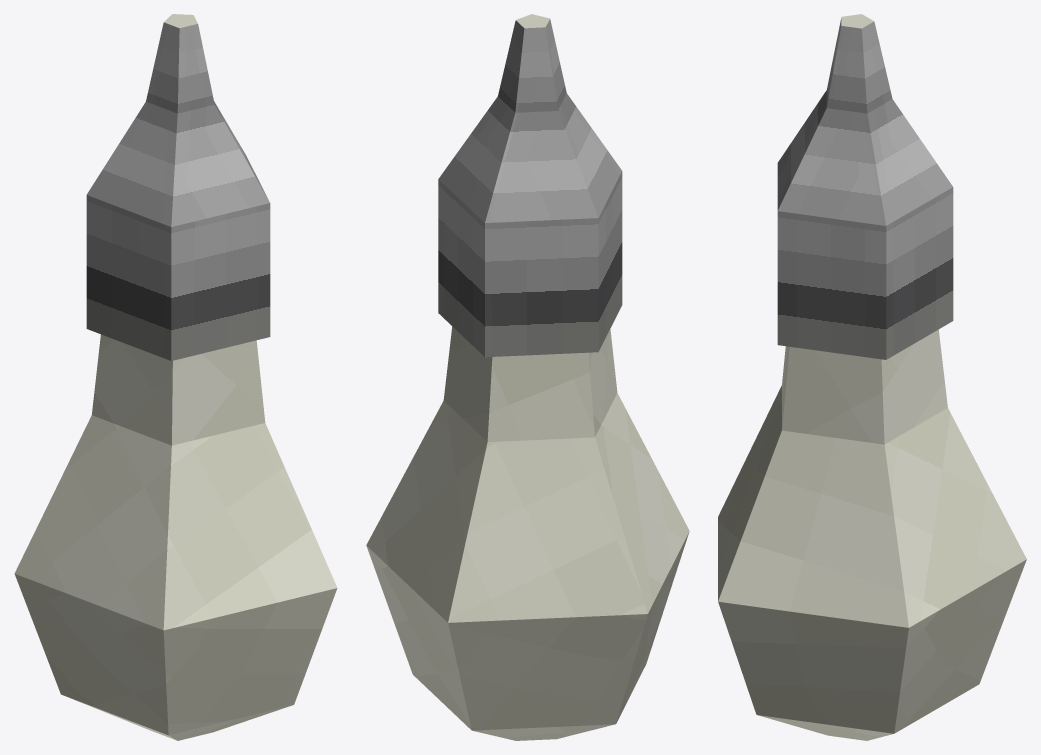
Rendered from LightBulb01.obj.
The picture shows the model from 3 angles, left to right: view 1: azimuth 30°, elevation 25°; view 2: azimuth 150°, elevation 25°; view 3: azimuth 270°, elevation 25°; orthographic projection.
Visible parts, largest first — view 1: LightBulb01; view 2: LightBulb01; view 3: LightBulb01.
Boxes of the visible parts, <box> form: LightBulb01: <box>14,14,337,740</box>; LightBulb01: <box>366,14,689,740</box>; LightBulb01: <box>718,14,1026,740</box>.
Bounding box in the file's own units: 0.1673 × 0.4011 × 0.1591.
